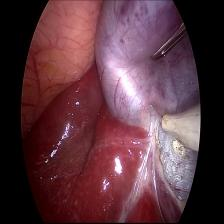Grasper: (150, 15, 188, 66)
Hook: (146, 97, 202, 156)
